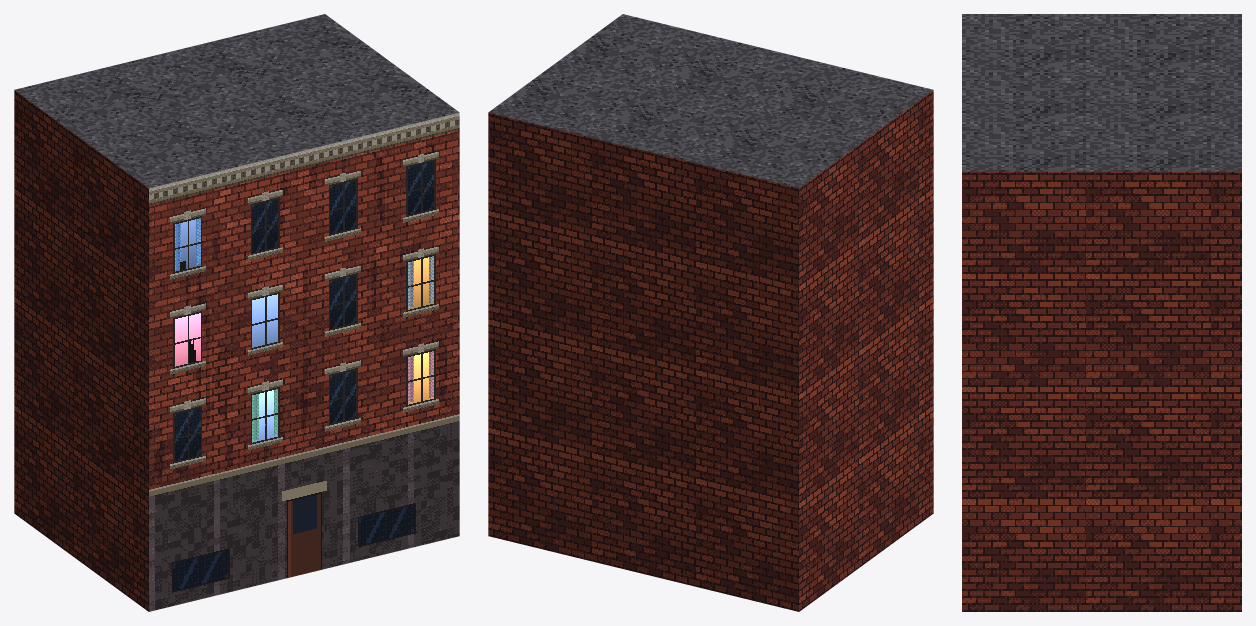
Rendered from Kulisse_5.glb.
3 renders of one model, left to right at view 1: azimuth 30°, elevation 25°; view 2: azimuth 150°, elevation 25°; view 3: azimuth 270°, elevation 25°, orthographic. The views are drawn at different scales.
Visible parts, largest first — view 1: Kulisse_5; view 2: Kulisse_5; view 3: Kulisse_5.
Part boxes in pixels (<box>): Kulisse_5: <box>14,14,459,611</box>; Kulisse_5: <box>488,14,933,611</box>; Kulisse_5: <box>962,14,1241,611</box>.
Size of the model in its own units: 12 by 15.62 by 9.
3 materials, 3 textured.
